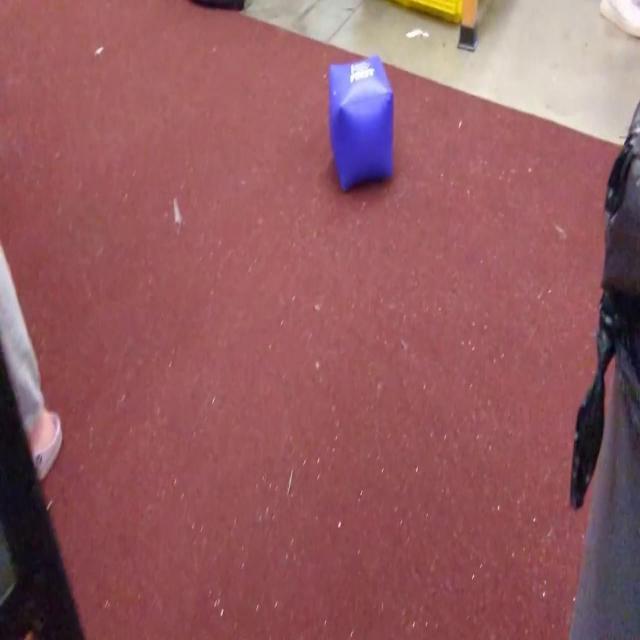frc_cube: (329, 53, 395, 194)
